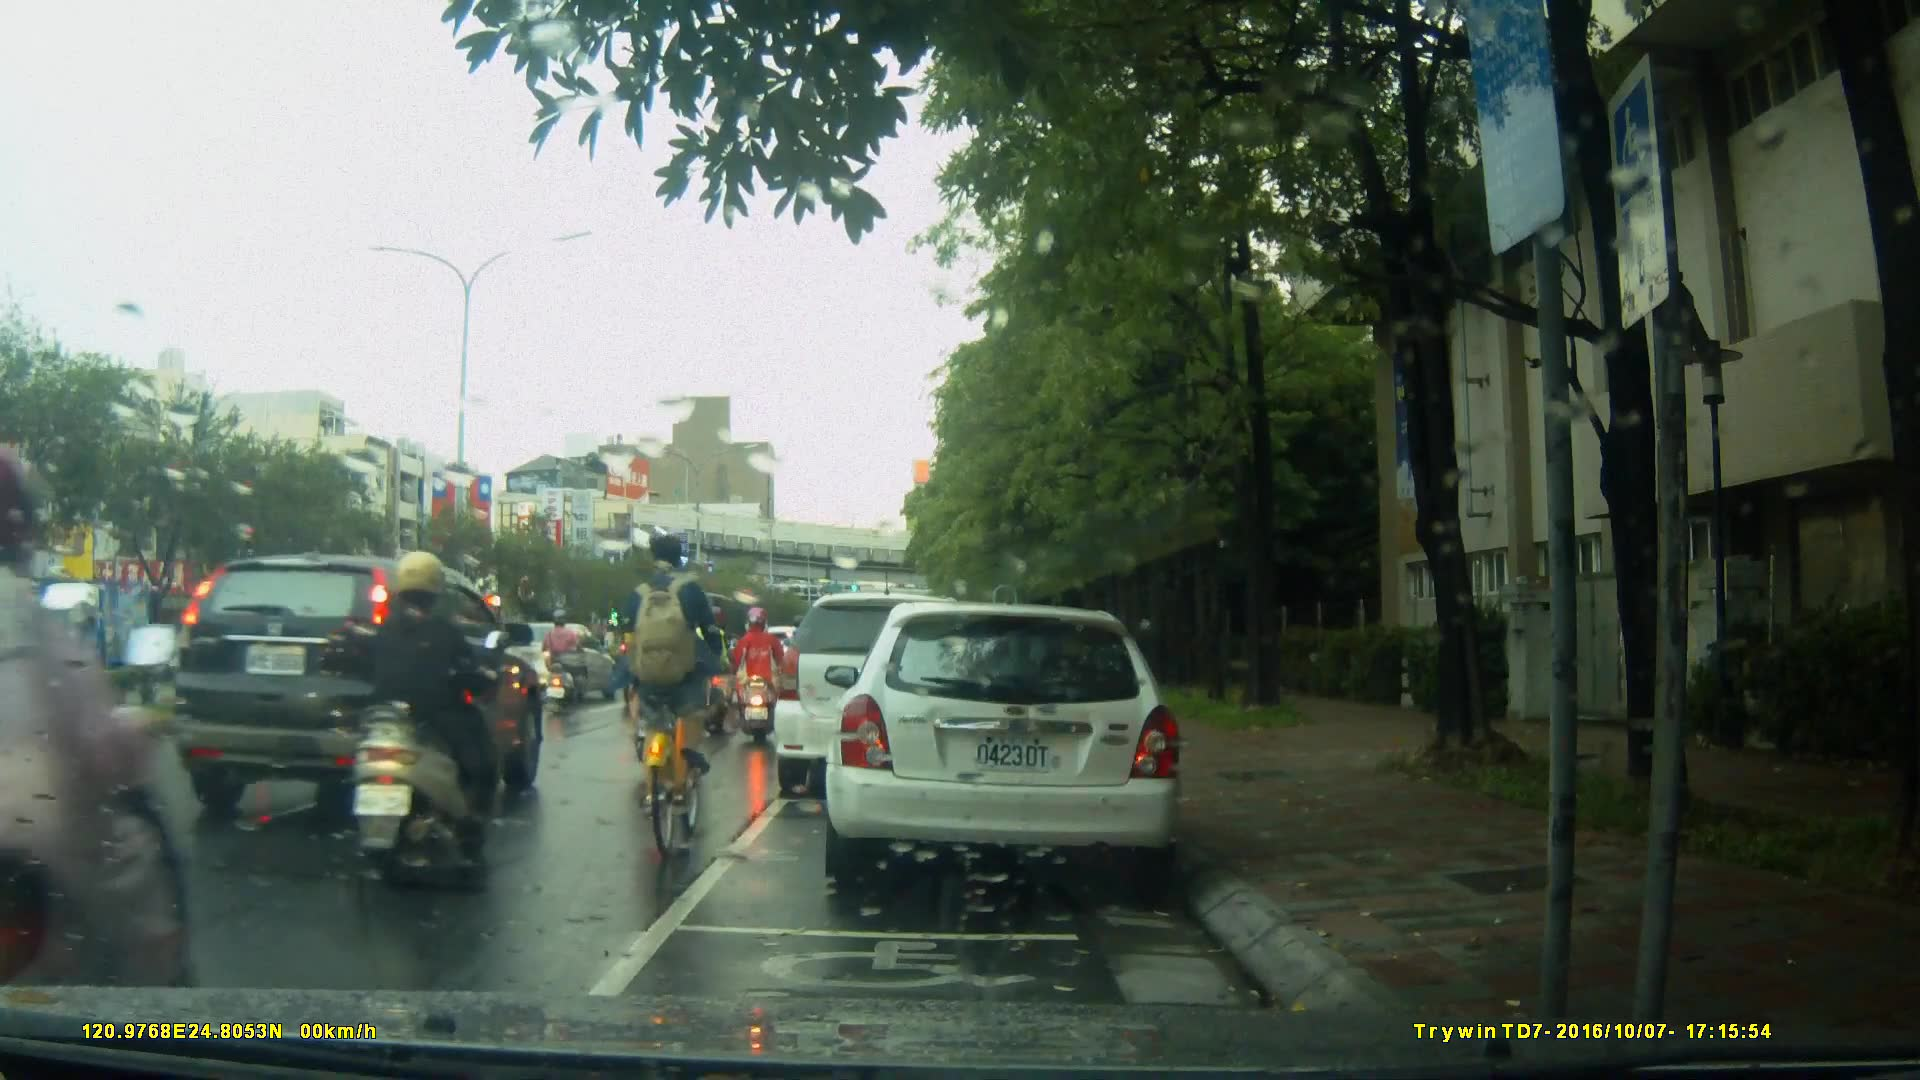rider: (1, 433, 208, 1080), (351, 552, 506, 881), (631, 531, 715, 863), (726, 604, 791, 745), (542, 613, 588, 717), (782, 612, 827, 719)
vehicle: (170, 550, 550, 825), (822, 604, 1188, 883), (774, 595, 995, 802)
